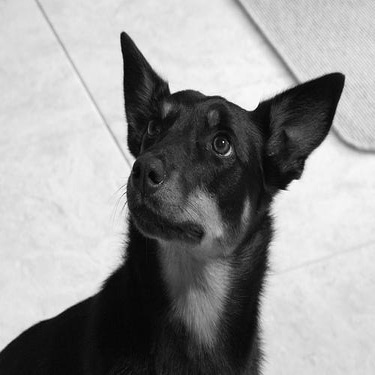dog: (4, 24, 352, 372)
